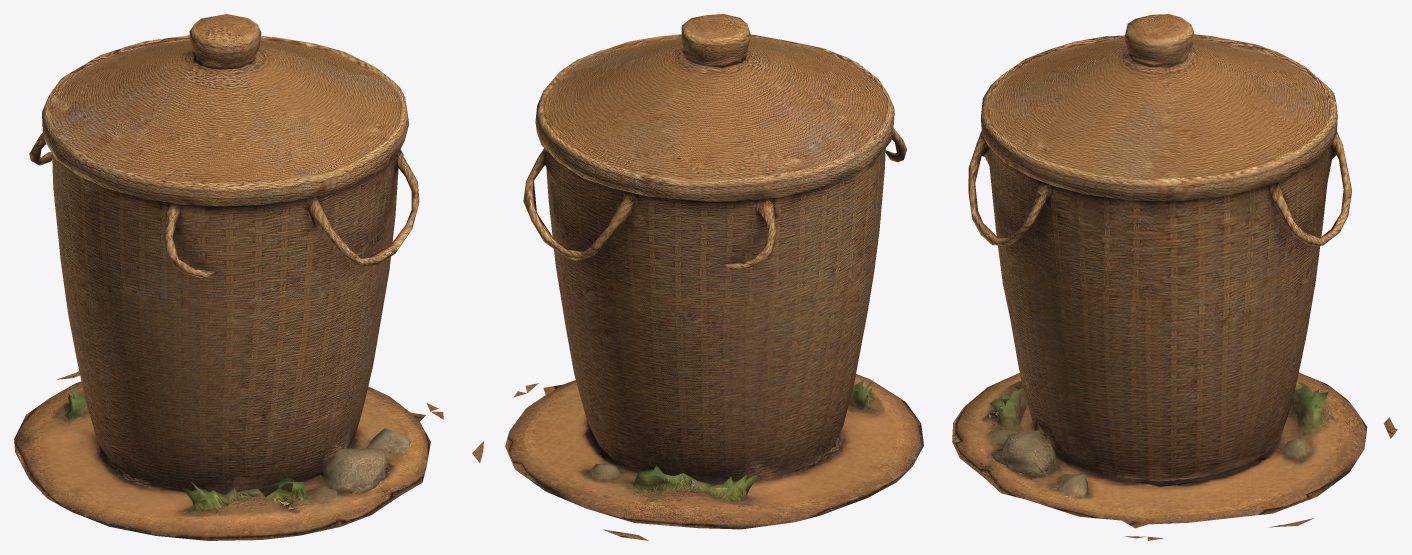
File: tripo_convert_6c170c9a-c939-45de-9668-30669c17fc82.fbx
The picture shows the model from 3 angles, left to right: view 1: azimuth 30°, elevation 25°; view 2: azimuth 150°, elevation 25°; view 3: azimuth 270°, elevation 25°; orthographic projection. The views are drawn at different scales.
Visible parts, largest first — view 1: tripo_node_6c170c9a; view 2: tripo_node_6c170c9a; view 3: tripo_node_6c170c9a.
Boxes of the visible parts, left/top/right/bottom form: tripo_node_6c170c9a: left=14, top=14, right=443, bottom=540; tripo_node_6c170c9a: left=472, top=14, right=923, bottom=540; tripo_node_6c170c9a: left=952, top=14, right=1397, bottom=540.
Bounding box in the file's own units: 0.8752 × 0.9246 × 0.8924.
